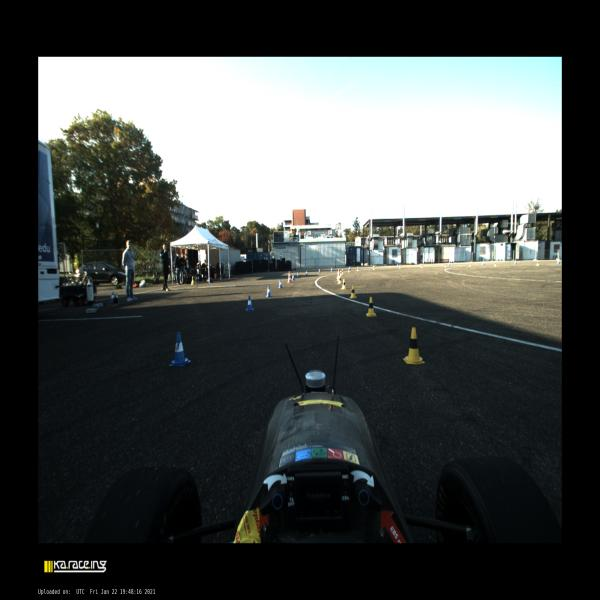blue_cone: (169, 332, 191, 365), (246, 295, 254, 311), (266, 285, 272, 297), (278, 279, 283, 288), (292, 274, 295, 280), (296, 272, 298, 278), (306, 270, 308, 276), (558, 259, 560, 264), (318, 269, 320, 273), (349, 266, 351, 270), (448, 262, 450, 266), (482, 261, 484, 265), (514, 260, 516, 264), (331, 268, 332, 272), (372, 266, 374, 268), (397, 264, 398, 268), (420, 263, 421, 267)
large_orange_cone: (287, 270, 292, 282), (336, 269, 340, 279)
yellow_cone: (403, 328, 425, 364), (366, 297, 376, 317), (350, 286, 357, 299), (342, 280, 346, 290), (338, 276, 341, 284), (536, 260, 539, 266), (399, 264, 401, 269), (469, 262, 471, 267), (348, 269, 350, 273), (421, 264, 423, 268), (494, 262, 496, 266), (357, 266, 358, 272), (340, 270, 341, 275), (342, 270, 343, 274), (373, 266, 374, 270), (445, 263, 446, 267)
